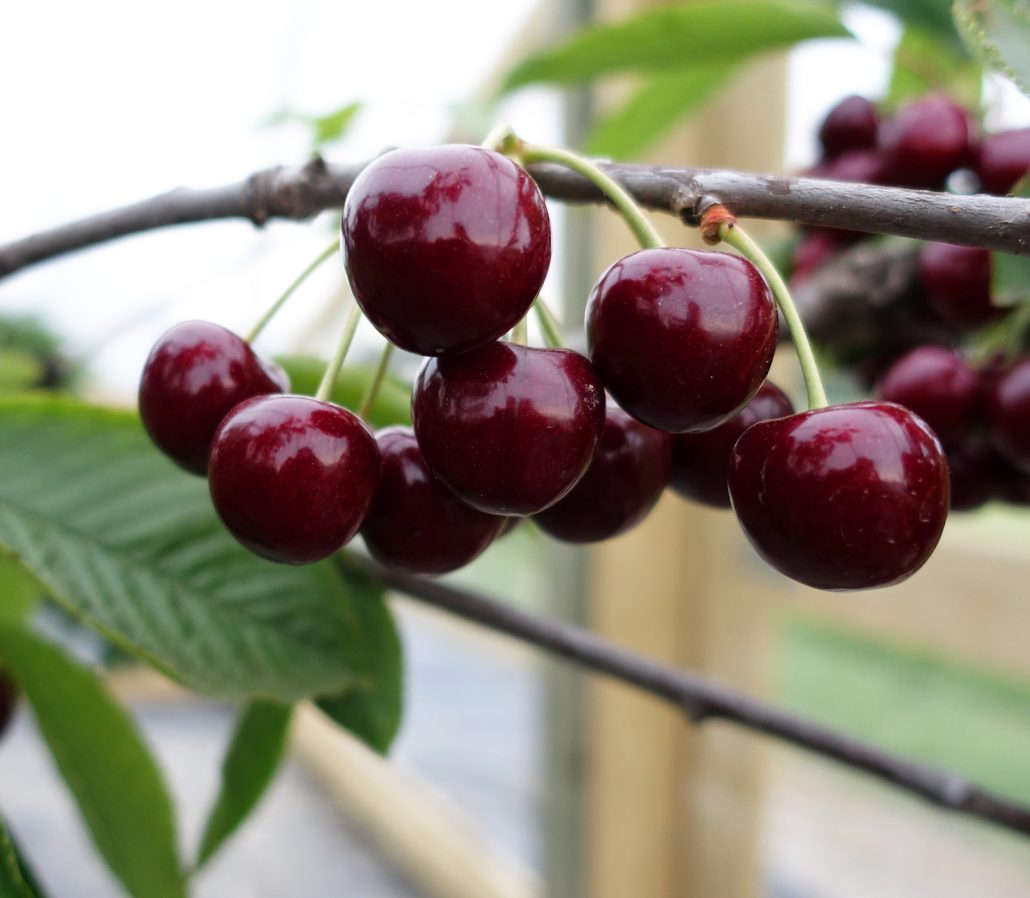Cherry: (725, 388, 953, 599), (337, 142, 553, 359), (579, 238, 786, 435), (409, 342, 606, 530), (201, 392, 386, 567), (137, 317, 297, 481), (349, 425, 515, 575), (526, 390, 669, 549), (664, 372, 799, 506), (881, 338, 998, 452)
